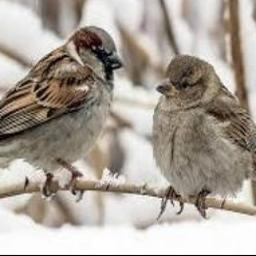Sparrow: (0, 25, 123, 202), (151, 54, 256, 221)
